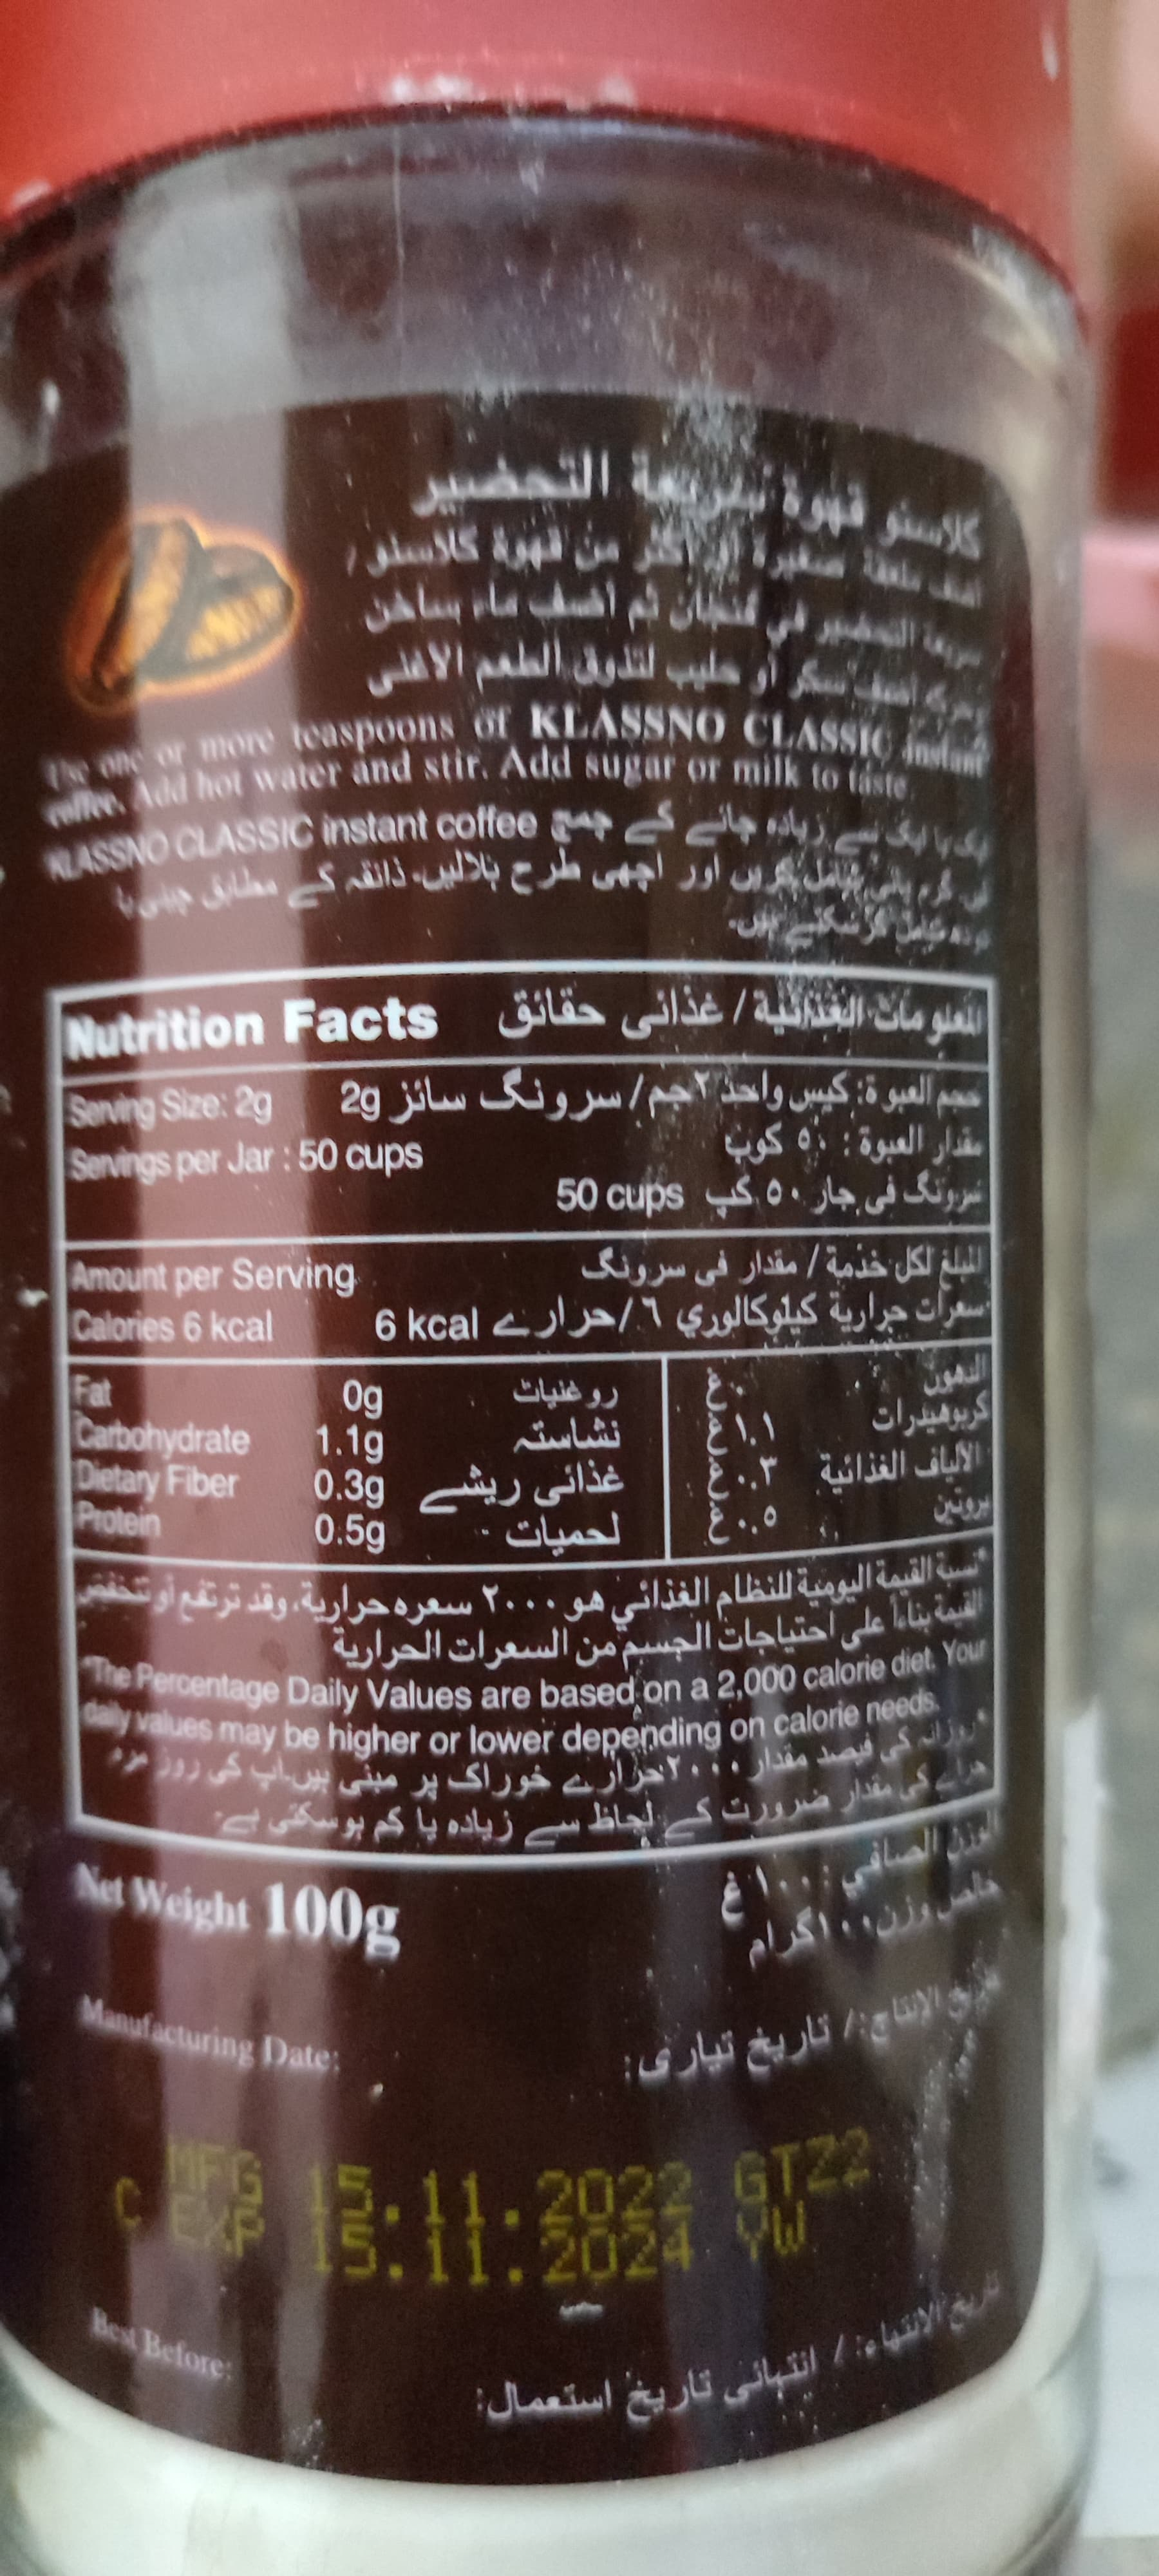table: (31, 958, 1016, 1840)
